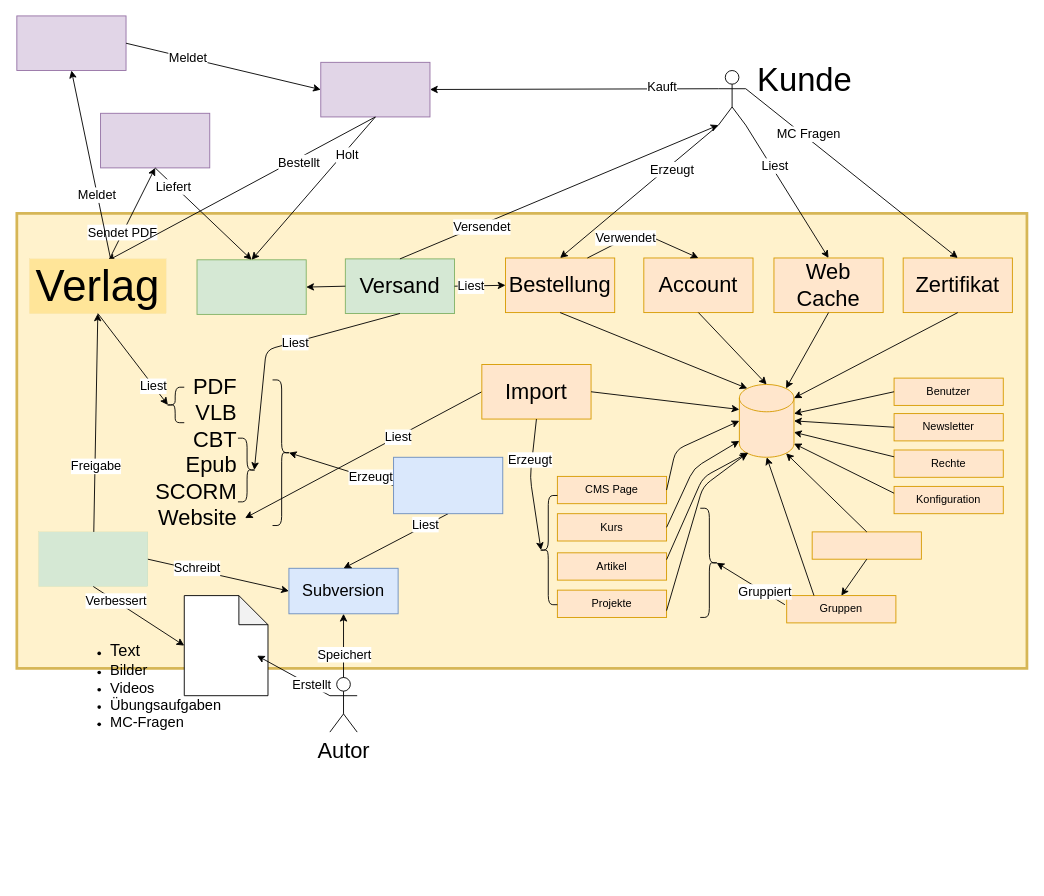
The diagram is 1044 pixels wide and 896 high, and some of its shapes have lost their labels. The centre of each missing label's shape, as x and y in pixels:
Buchhandel: point 375,89
Build System: point 448,485
DB: point 766,420
Druckerei: point 155,140
Kategorien: point 866,545
Lager: point 251,286
Lektorat: point 92,558
VLB: point 71,43
XML: point 225,645
